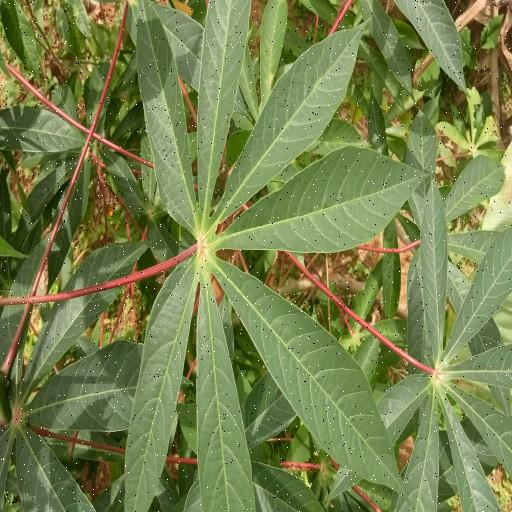Cassava_Healthy: (126, 0, 422, 512), (327, 174, 512, 512)
